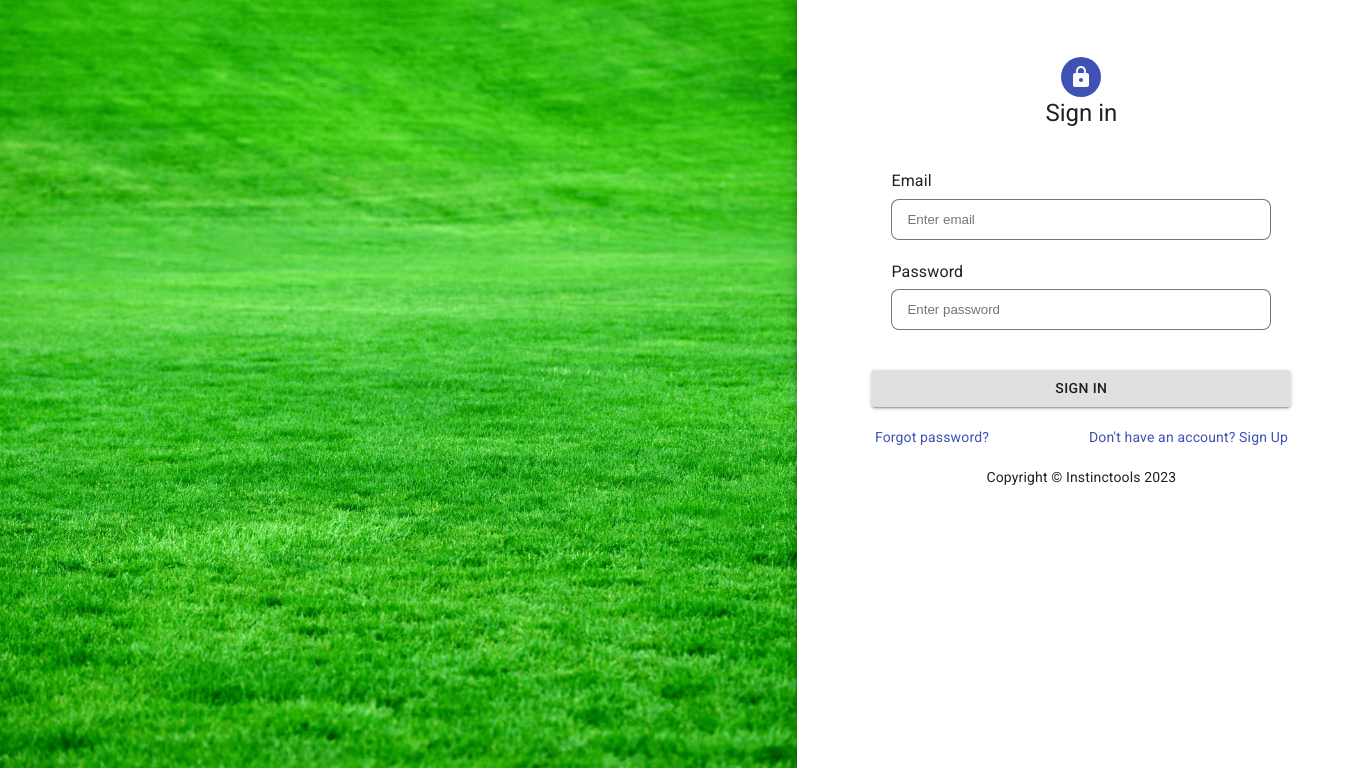
Test: Sign in component › Email, Password error are exist
Click the button.
click(1081, 388)  # box [871, 370, 1291, 407]
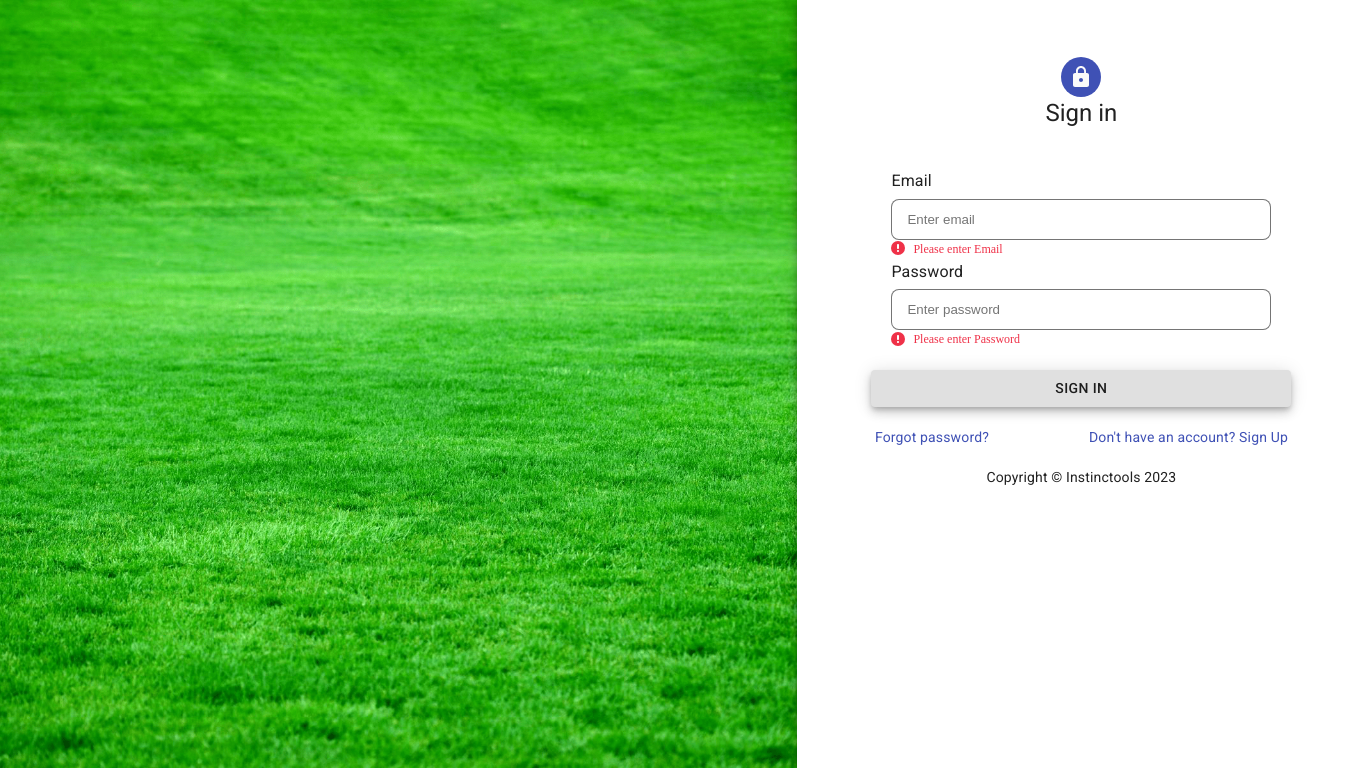
Result: the text "Please enter Email" is shown at [913, 242, 1003, 256]
Result: the text "Please enter Password" is shown at [913, 332, 1020, 347]
Type "line length is more than 30 symbols!!!" into the field with placeholder "Enter email".
click(1081, 219); type("line length is more than 30 symbols!!!")  # box [891, 198, 1271, 240]
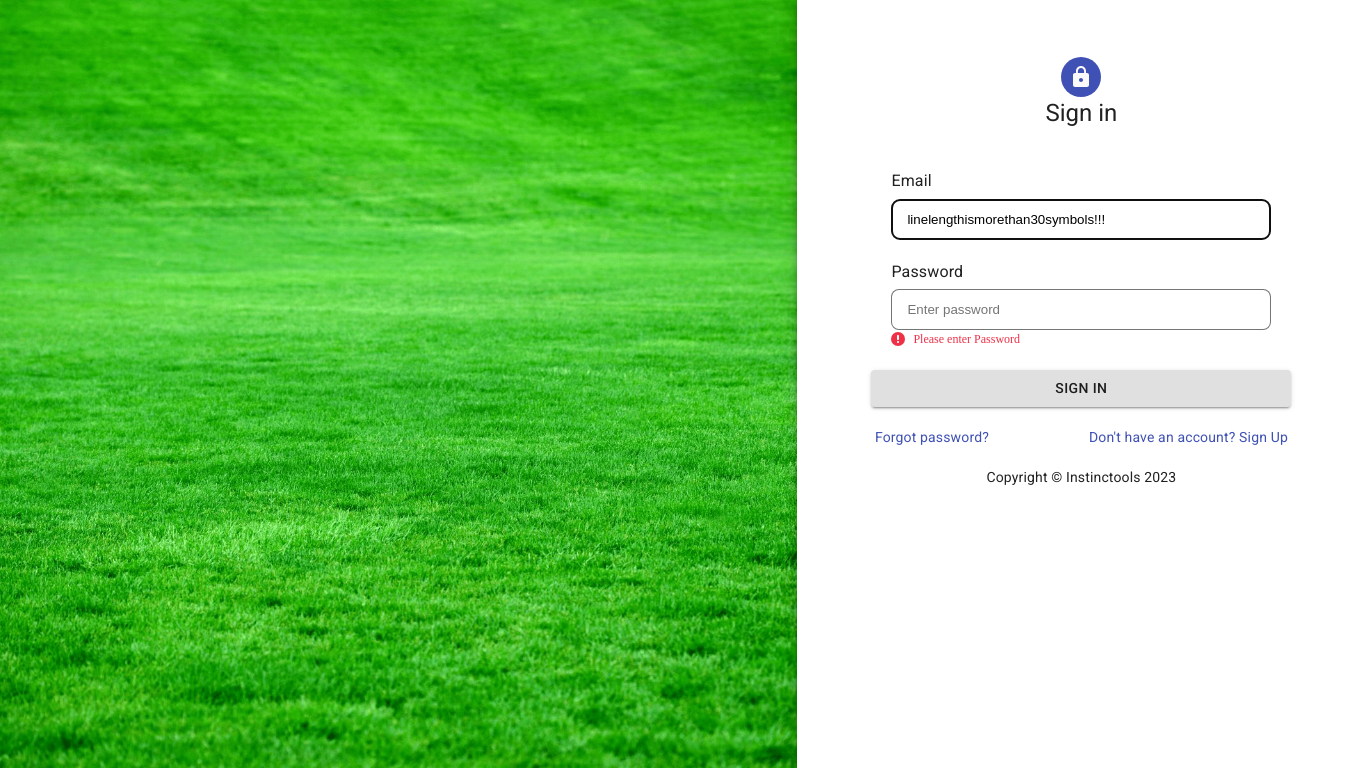
Click the button.
click(1081, 388)  # box [871, 370, 1291, 407]
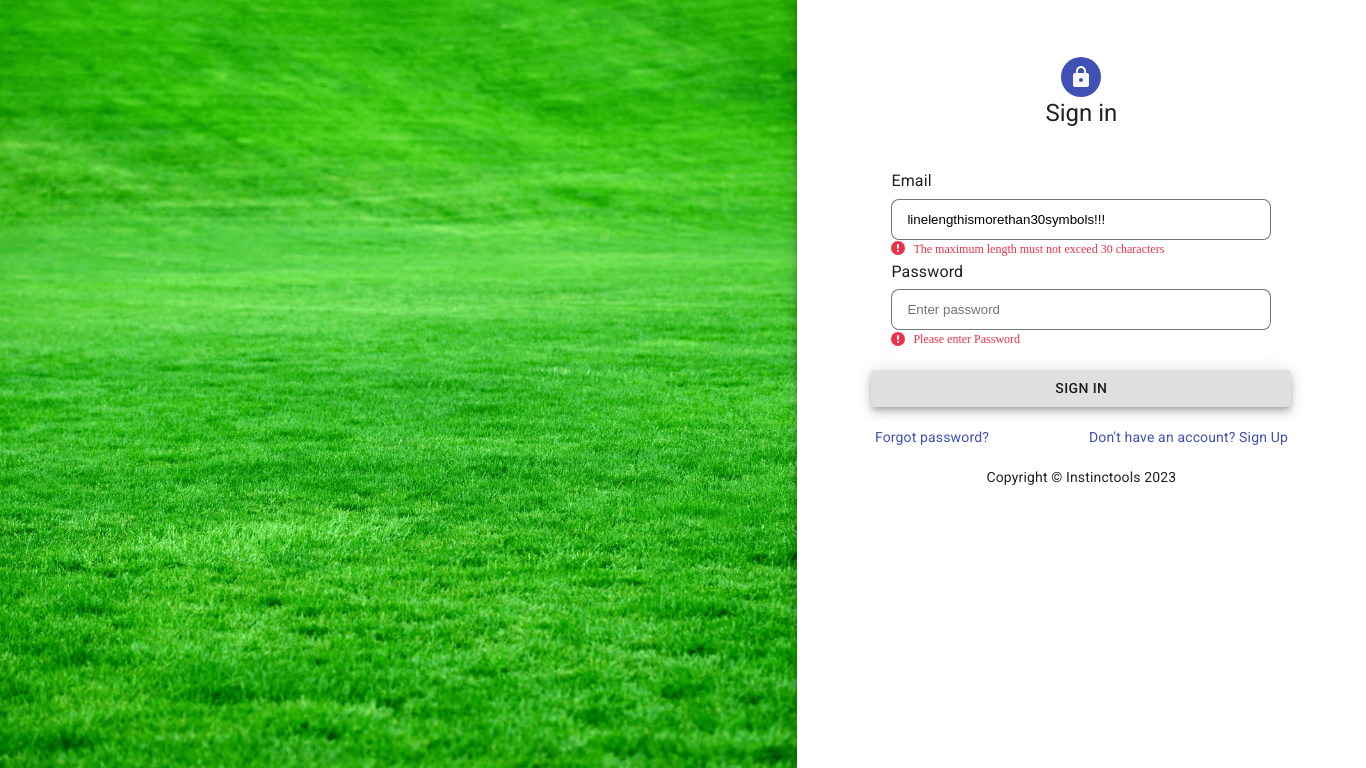
Result: the text "The maximum length must not exceed 30 characters" is shown at [913, 242, 1164, 256]
